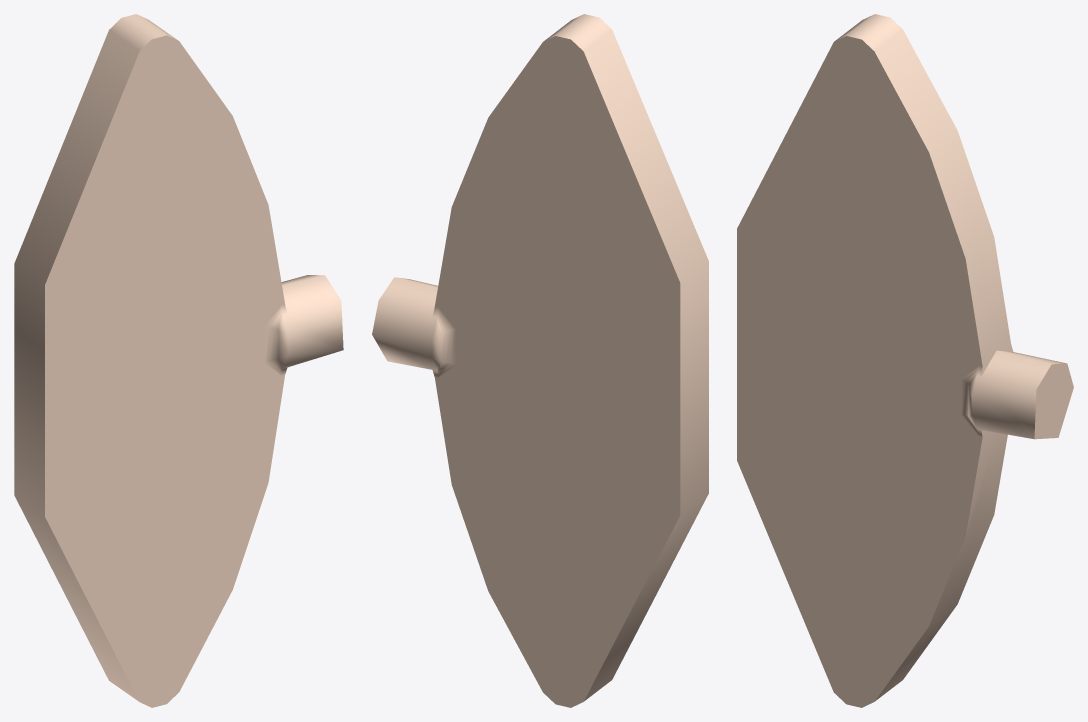
File: Loquet porte - cle_instance_1.obj
The picture shows the model from 3 angles, left to right: view 1: azimuth 30°, elevation 25°; view 2: azimuth 150°, elevation 25°; view 3: azimuth 330°, elevation 25°; orthographic projection.
Parts seen in each view (by area): view 1: Face_3, Face_6, Face_8, Face_5; view 2: Face_4, Face_6, Face_8, Face_5; view 3: Face_3, Face_2, Face_1, Face_8, Face_9, Face_5.
Part boxes in pixels (bbox=[...]): Face_3: bbox=[45, 35, 284, 707]; Face_6: bbox=[14, 30, 139, 701]; Face_8: bbox=[281, 275, 343, 368]; Face_5: bbox=[109, 14, 177, 51]; Face_4: bbox=[435, 36, 680, 707]; Face_6: bbox=[583, 30, 708, 701]; Face_8: bbox=[372, 277, 438, 370]; Face_5: bbox=[543, 14, 611, 51]; Face_3: bbox=[737, 36, 982, 707]; Face_2: bbox=[874, 30, 1013, 376]; Face_1: bbox=[875, 430, 1007, 701]; Face_8: bbox=[972, 350, 1065, 438]; Face_9: bbox=[1034, 363, 1073, 439]; Face_5: bbox=[834, 14, 902, 50].
Bounding box in the file's own units: 0.0117 × 0.0249 × 0.003.
